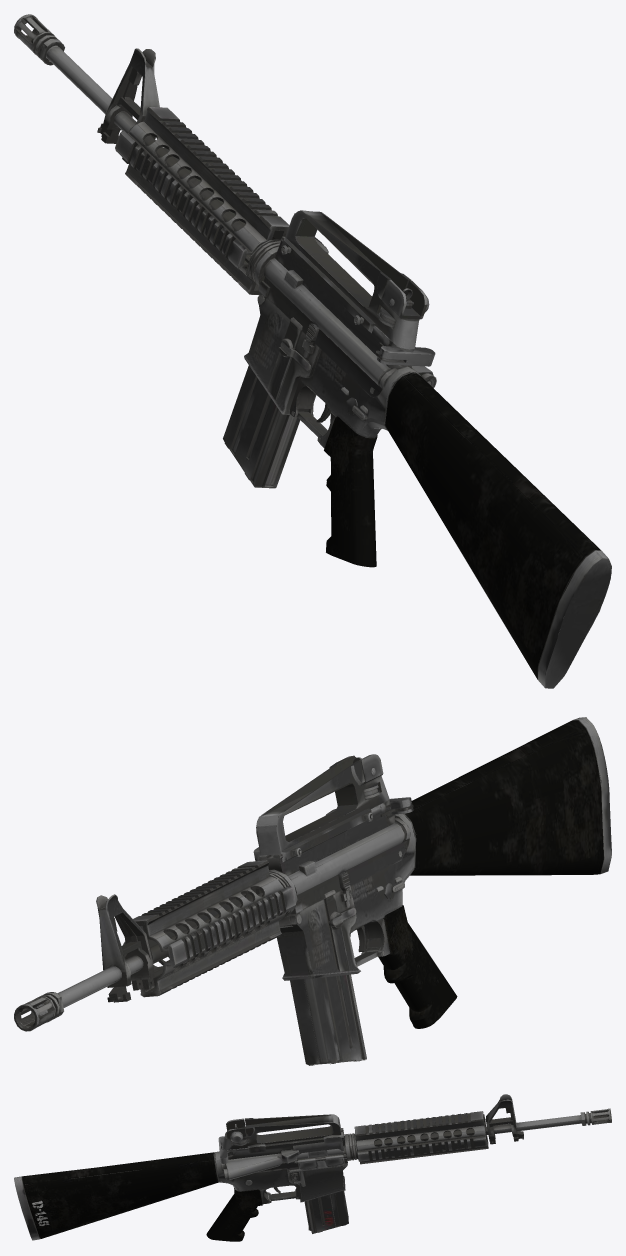
Rendered from rifle_556.glb.
3 renders of one model, top to bottom at view 1: azimuth 30°, elevation 25°; view 2: azimuth 150°, elevation 25°; view 3: azimuth 270°, elevation 25°, orthographic. The views are drawn at different scales.
Visible parts, largest first — view 1: body, mag, bolt; view 2: body, mag; view 3: body, mag, bolt.
Part boxes in pixels (x1,y1,x2,y2): body: (14,14,611,688); mag: (223,365,300,488); bolt: (375,342,435,366); body: (14,717,611,1031); mag: (290,974,366,1065); body: (14,1094,611,1241); mag: (304,1191,348,1233); bolt: (218,1136,342,1163).
Bounding box in the file's own units: 0.1019 × 0.2954 × 1.
1 material, 1 textured.
